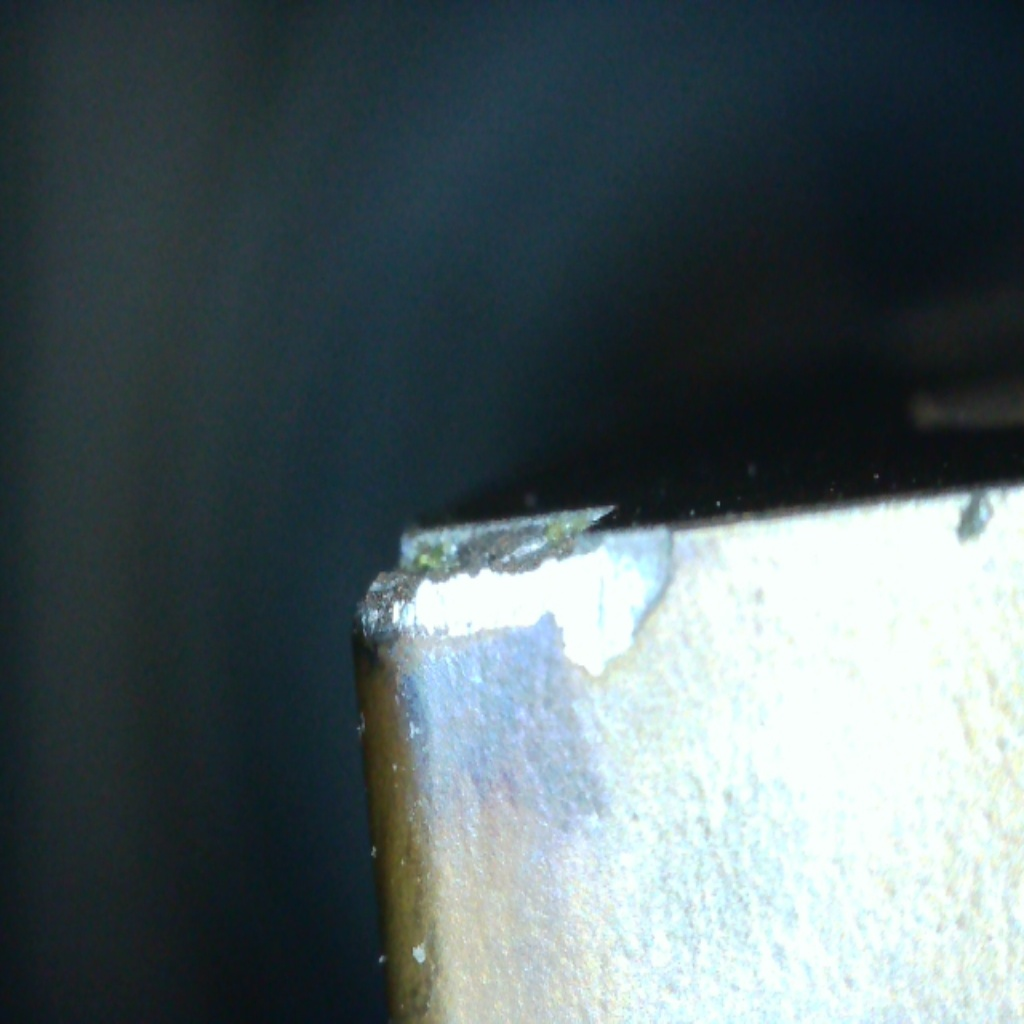flank_wear: (354, 563, 559, 650)
